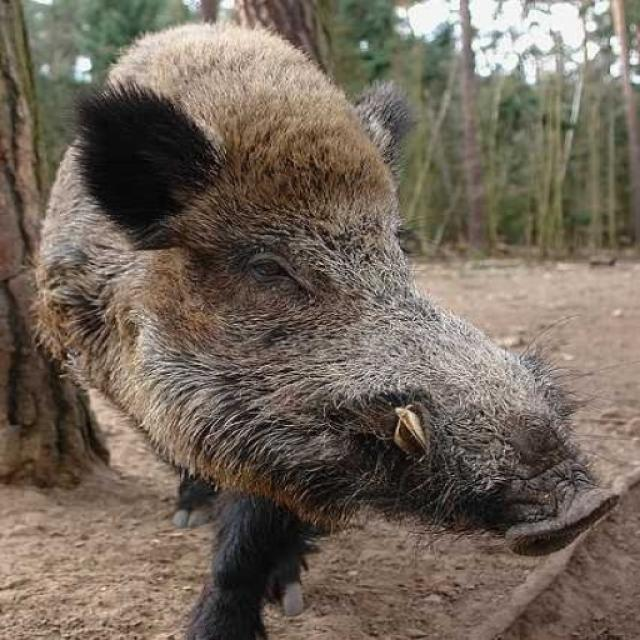pig: (52, 9, 611, 640)
